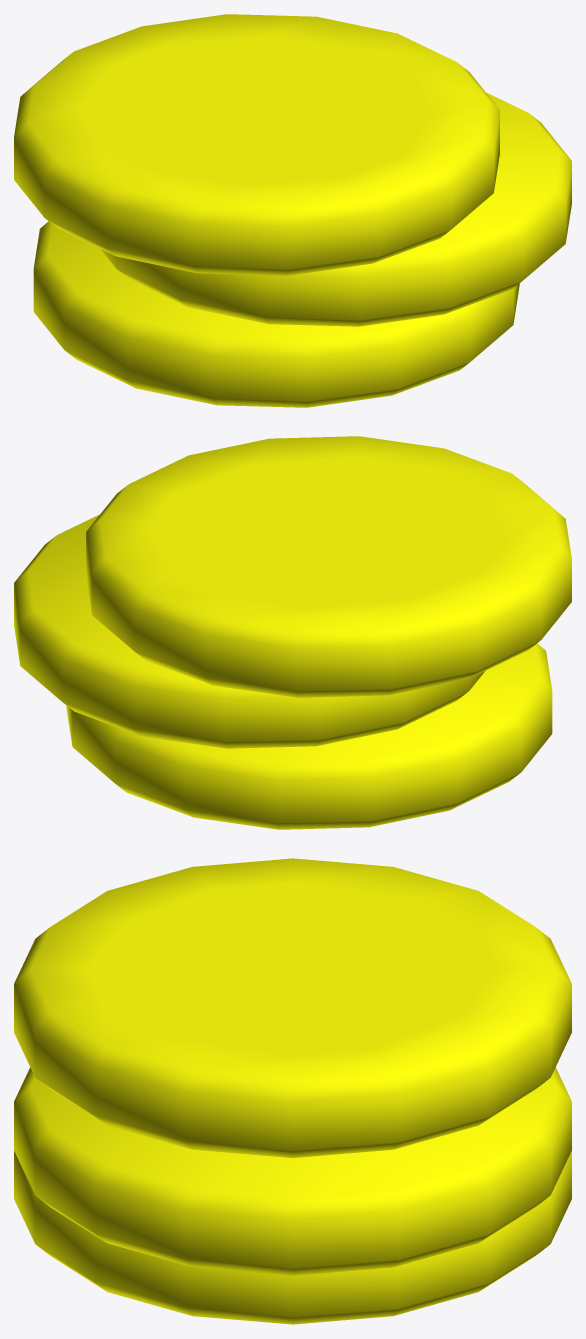
File: food_ingredient_tomato_slices.gltf
The picture shows the model from 3 angles, top to bottom: view 1: azimuth 30°, elevation 25°; view 2: azimuth 150°, elevation 25°; view 3: azimuth 270°, elevation 25°; orthographic projection. The views are drawn at different scales.
Visible parts, largest first — view 1: food_ingredient_tomato_slices; view 2: food_ingredient_tomato_slices; view 3: food_ingredient_tomato_slices.
Part boxes in pixels (x1,y1,x2,y2): food_ingredient_tomato_slices: [14, 14, 571, 407]; food_ingredient_tomato_slices: [14, 436, 571, 829]; food_ingredient_tomato_slices: [14, 858, 571, 1324].
Size of the model in its own units: 0.76 by 0.3 by 0.65.
Materials: 1 (1 with a texture image).
